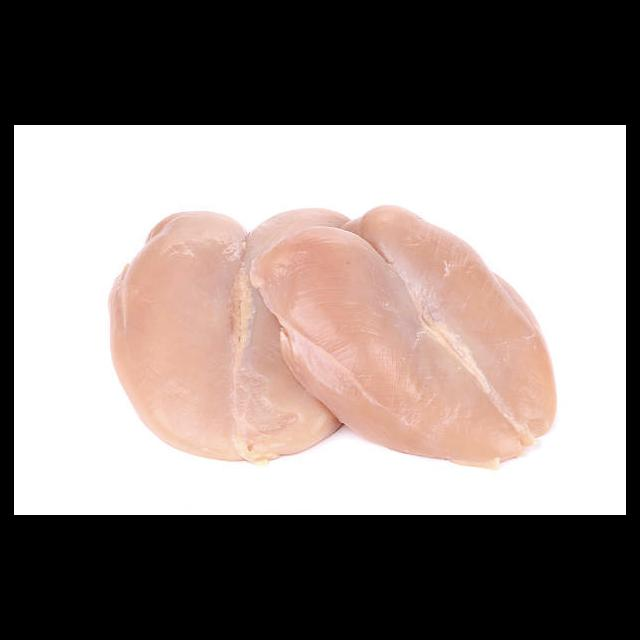chicken: (253, 204, 555, 473), (105, 205, 357, 463)
